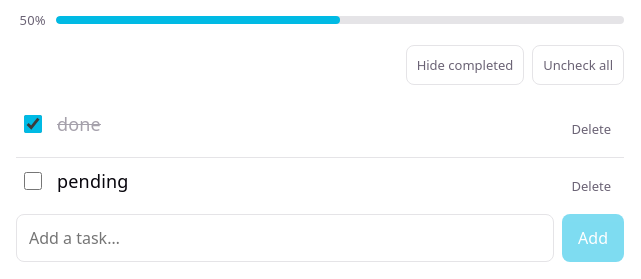
it: TodoPage › hides and re-shows completed items when toggled
The image size is (641, 279).
Expected: the text "done" is shown, x1=57 y1=112 x2=101 y2=136
Click the button with test id "toggle-hide-completed" at {"x": 465, "y": 65}, box x1=406 y1=45 x2=524 y2=85
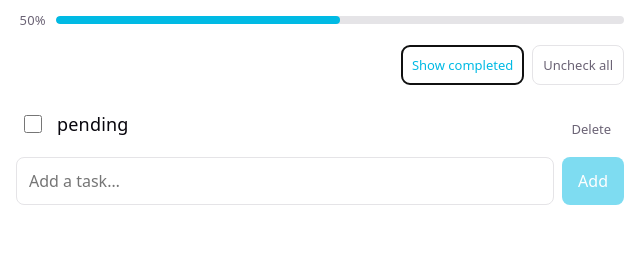
Expected: the text "pending" is shown, x1=57 y1=112 x2=128 y2=136
Expected: the text "done" is gone
Click the button with test id "toggle-hide-completed" at {"x": 463, "y": 65}, box x1=401 y1=45 x2=524 y2=85
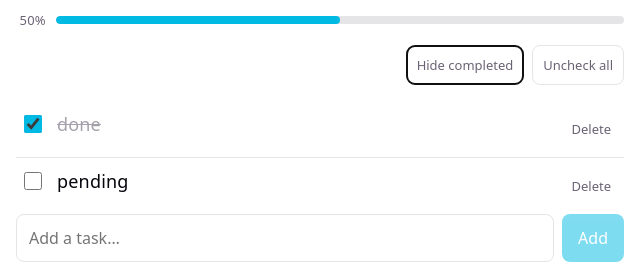
Expected: the text "done" is shown, x1=57 y1=112 x2=101 y2=136
